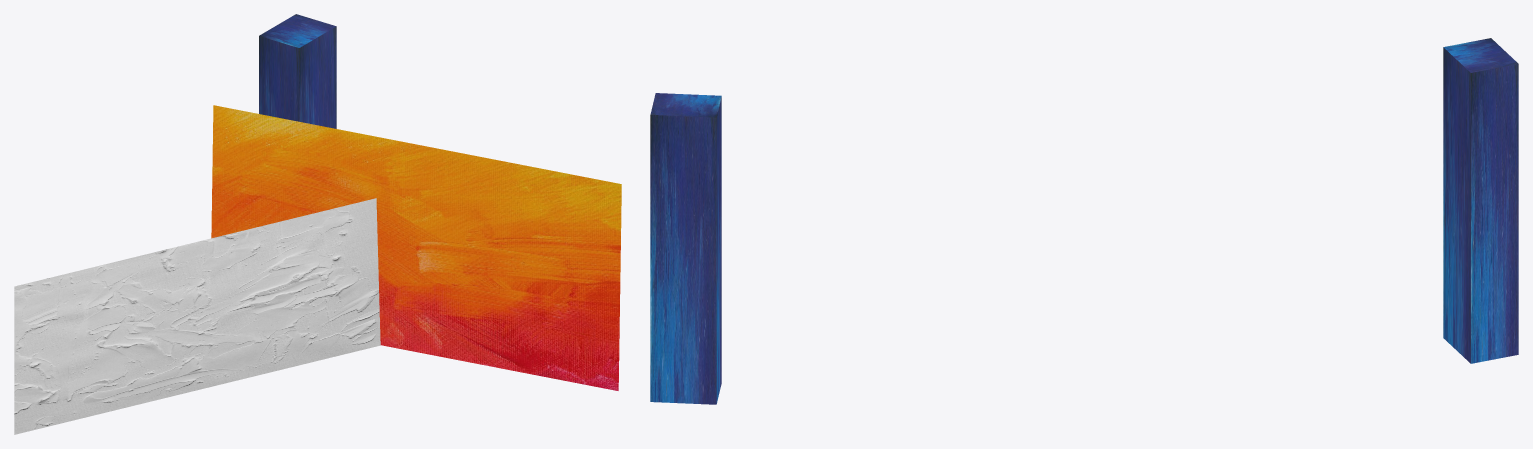
Rendered from colorful_scene.gltf.
The picture shows the model from 3 angles, left to right: view 1: azimuth 30°, elevation 25°; view 2: azimuth 150°, elevation 25°; view 3: azimuth 270°, elevation 25°; orthographic projection. The views are drawn at different scales.
Parts seen in each view (by area): view 1: Plane (×2), Box; view 2: Box; view 3: Box.
Boxes of the visible parts, left/top/right/bottom form: Plane (×2): left=14, top=105, right=621, bottom=434; Box: left=259, top=14, right=336, bottom=128; Box: left=650, top=93, right=721, bottom=404; Box: left=1443, top=38, right=1518, bottom=363.
Bounding box in the file's own units: 17.42 × 9.31 × 10.93.
3 materials, 3 textured.
